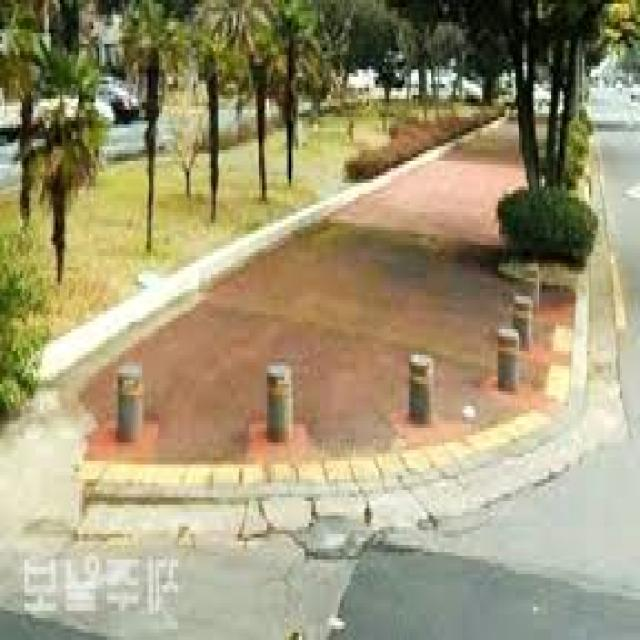bollard: (262, 357, 292, 447), (115, 361, 145, 445), (493, 321, 524, 396), (408, 352, 437, 423), (509, 286, 539, 351), (520, 259, 546, 316)
